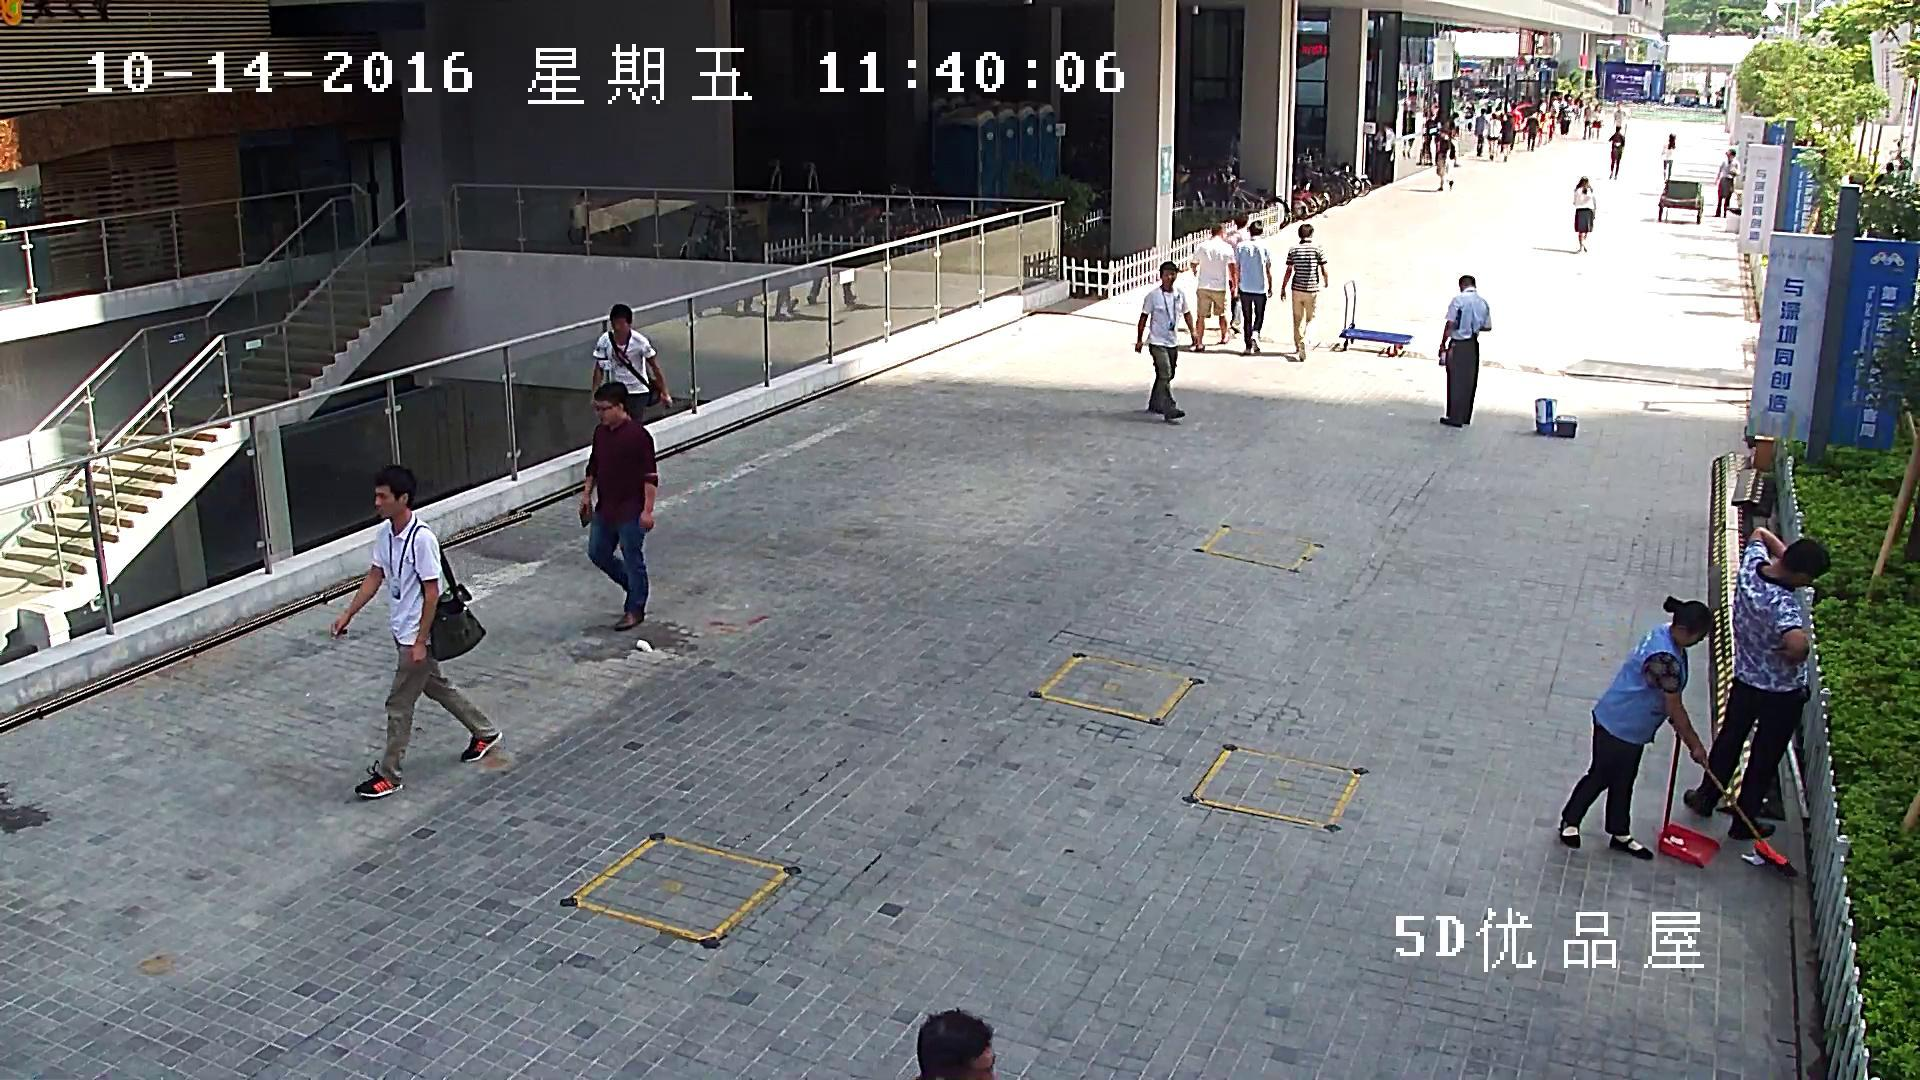person: (1558, 595, 1801, 880), (329, 464, 500, 800), (1682, 524, 1829, 840), (1558, 595, 1714, 860), (579, 383, 659, 633), (1134, 261, 1202, 419), (590, 303, 671, 426), (1439, 274, 1492, 428), (1280, 225, 1327, 361), (1191, 225, 1237, 352), (1234, 221, 1272, 355), (1225, 213, 1249, 339), (1714, 148, 1741, 217), (1574, 176, 1596, 253), (1371, 121, 1396, 186), (1434, 127, 1453, 190), (1606, 124, 1626, 180), (1486, 114, 1503, 162), (1662, 133, 1677, 180), (1499, 114, 1514, 162), (1508, 102, 1522, 150), (1524, 108, 1539, 152), (1474, 107, 1486, 156), (1558, 94, 1570, 136), (1592, 103, 1602, 138), (1612, 102, 1626, 126), (1583, 100, 1592, 139)
